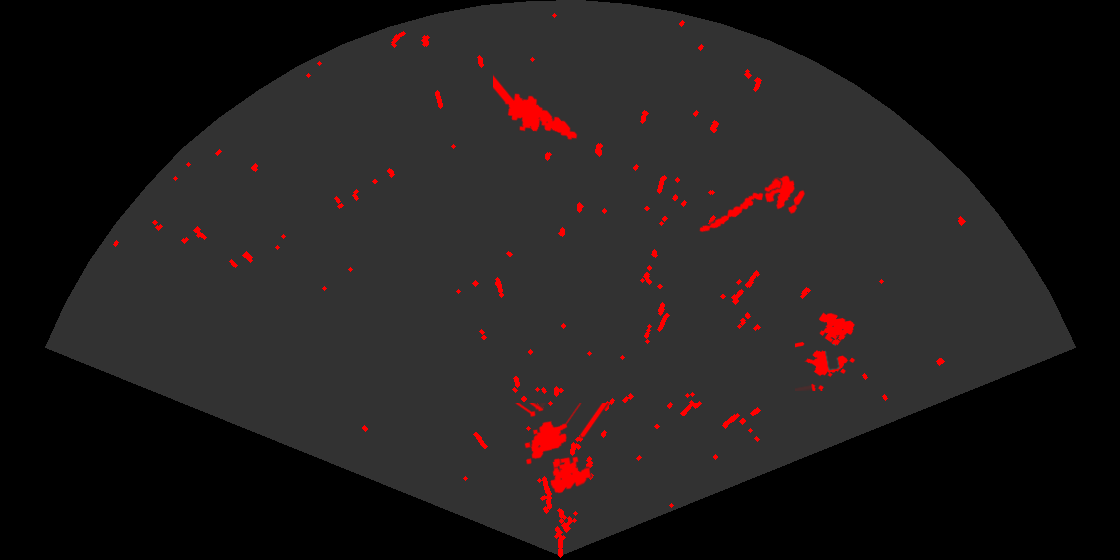ball: (763, 174, 807, 216)
cage: (514, 403, 610, 495), (795, 311, 857, 391)
chain: (698, 177, 783, 234)
frogman: (493, 74, 579, 142)
